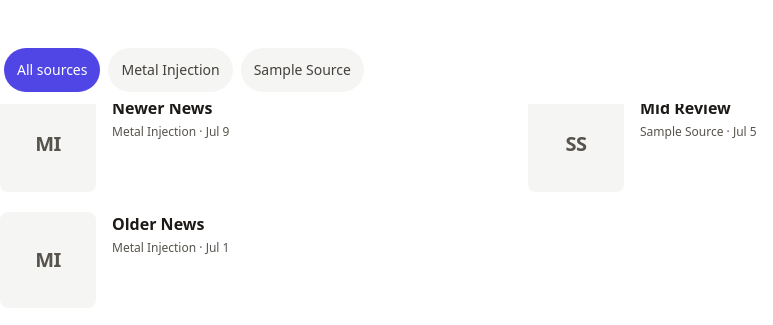
FeedArticleBoard source filter queries the source directly (spec 041 US3, FR-008-FR-011) › shows a distinct "unavailable" message when the direct query fails, different from the empty-articles message (FR-010)
This screenshot has width=773, height=325.
Click the button "Sample Source". click: [302, 70]
box: top-left (241, 48), bottom-right (364, 92)
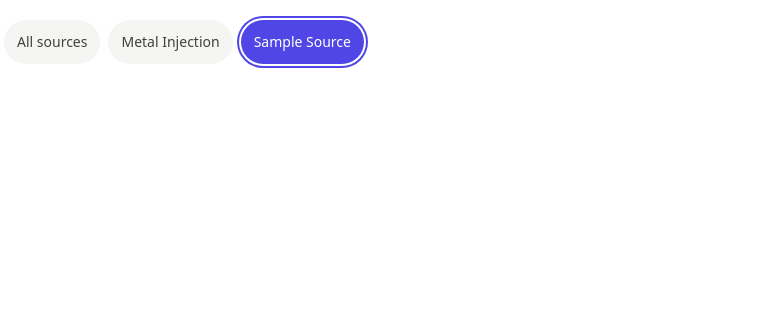
Expected: the text "Sample Source is temporarily unavailable right now." is shown, top-left (0, 53), bottom-right (389, 75)
